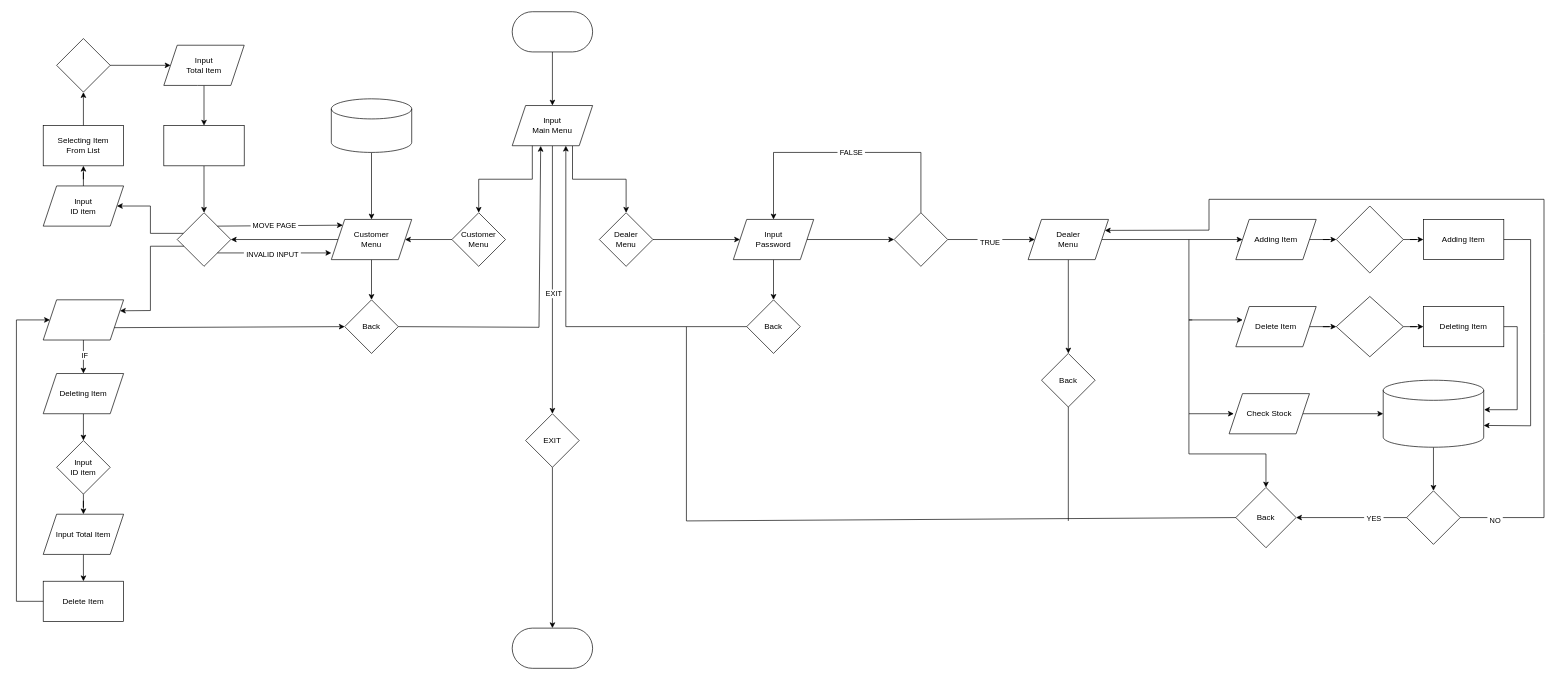
The diagram is 1561 pixels wide and 680 high, and some of its shapes have lost their labels. Here are the shapes that lost their labels. From the top down, the centre of each, then its label:
At point 552,31: "START".
At point 83,65: "Input Item".
At point 203,145: "Input New item to cart".
At point 371,125: "Motorcycle Stock from Dealer Menu".
At point 204,239: "Inputing".
At point 920,239: "Password bci23".
At point 1369,239: "Input Adding Item".
At point 83,319: "Order Cart List".
At point 1369,326: "Input Delete Item".
At point 1433,413: "Motorcycle Stock".
At point 1433,517: "Done ?".
At point 552,647: "END".
